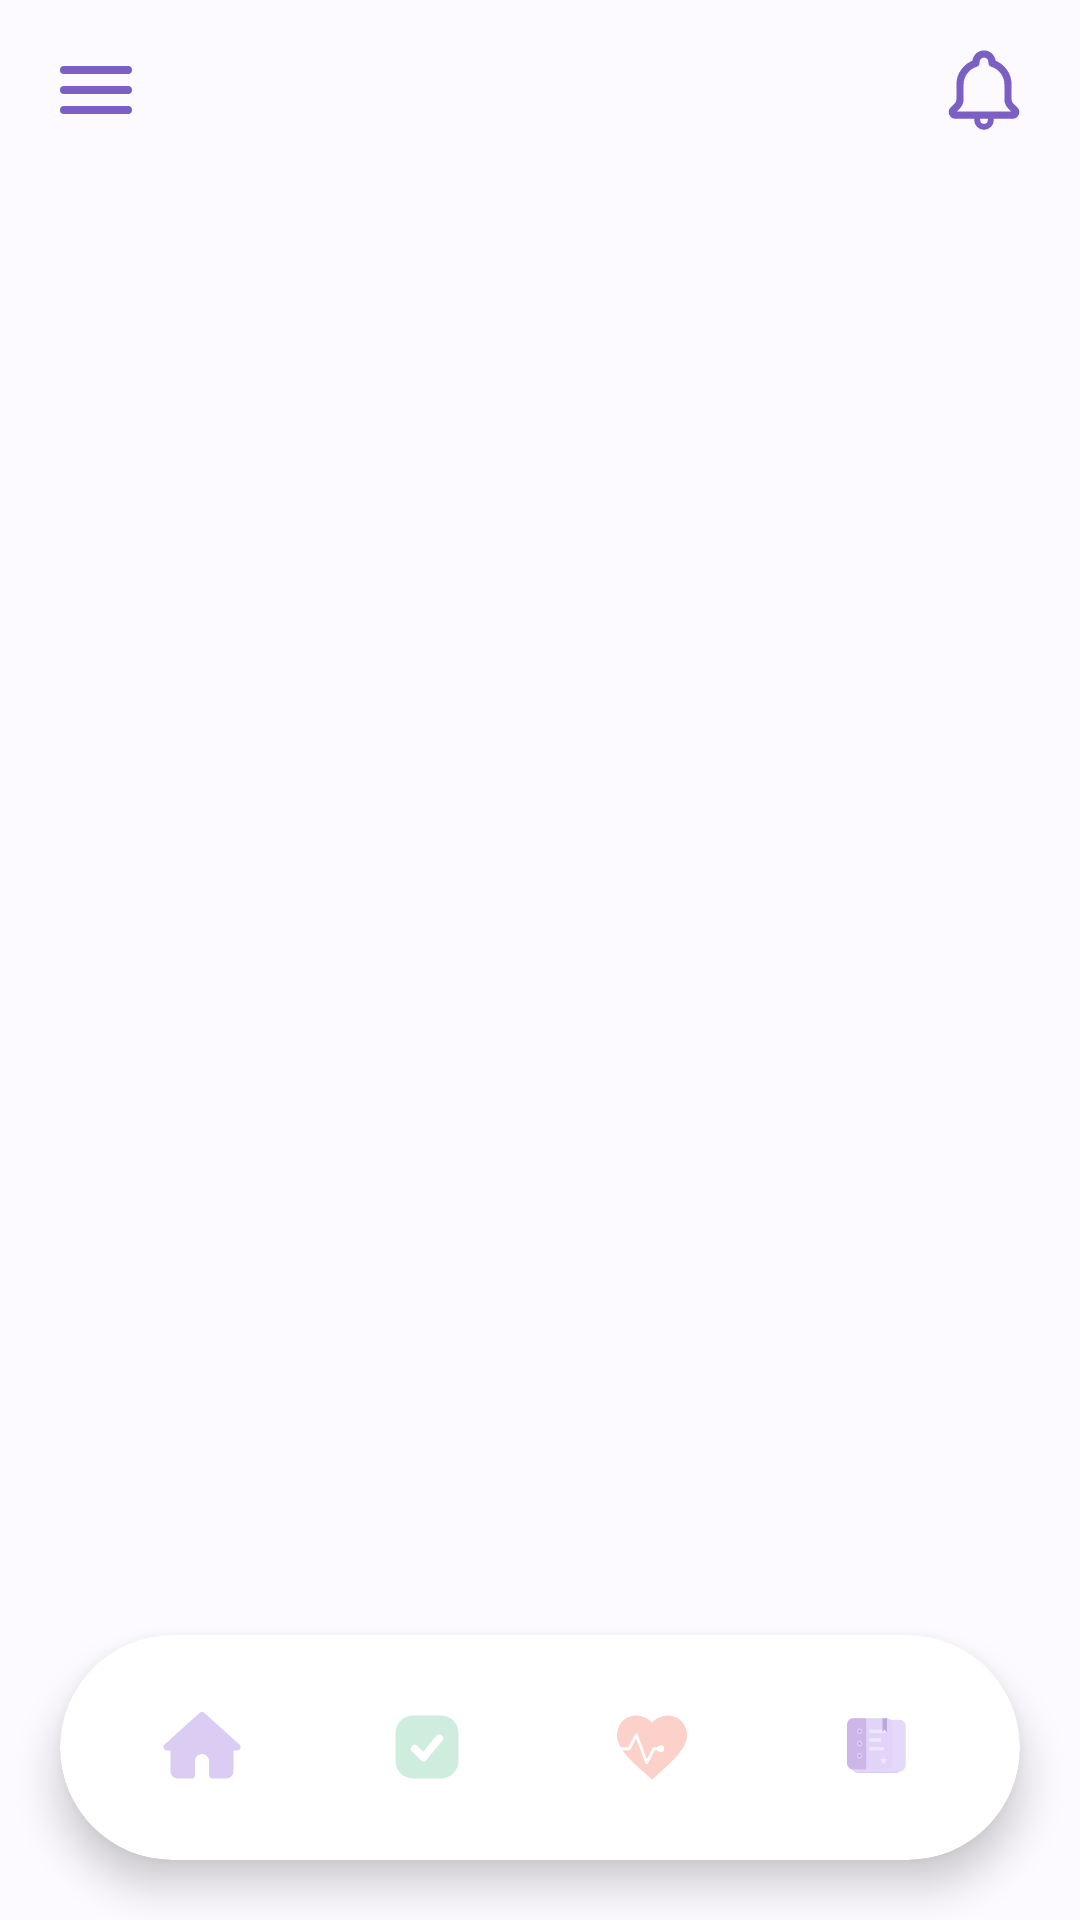

Where to tap for icons on this 1080px x 1920px app screen, as point (x, y):
diary: point (876, 1745)
health: point (652, 1747)
home: point (201, 1745)
Menu: point (96, 90)
Notifications: point (984, 90)
tasks: point (427, 1747)
